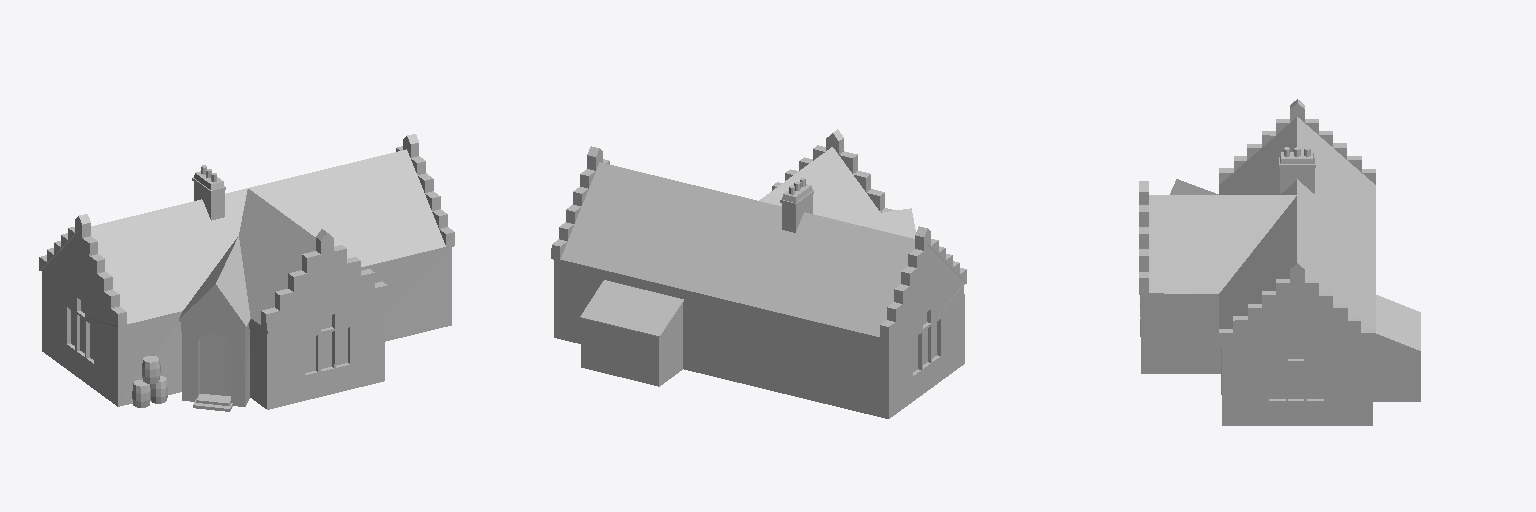
The model's file is houseR.obj.
3 renders of one model, left to right at view 1: azimuth 30°, elevation 25°; view 2: azimuth 150°, elevation 25°; view 3: azimuth 270°, elevation 25°, orthographic.
Visible parts, largest first — view 1: House; view 2: House; view 3: House.
Part boxes in pixels (bbox=[...]): House: bbox=[39, 134, 454, 411]; House: bbox=[551, 129, 966, 418]; House: bbox=[1139, 99, 1420, 425].
Bounding box in the file's own units: 1232 × 621 × 894.